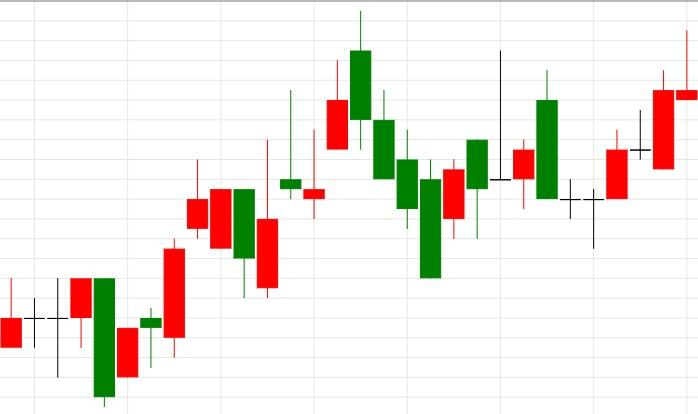bearish_engulfing_fall: (93, 160, 256, 408)
